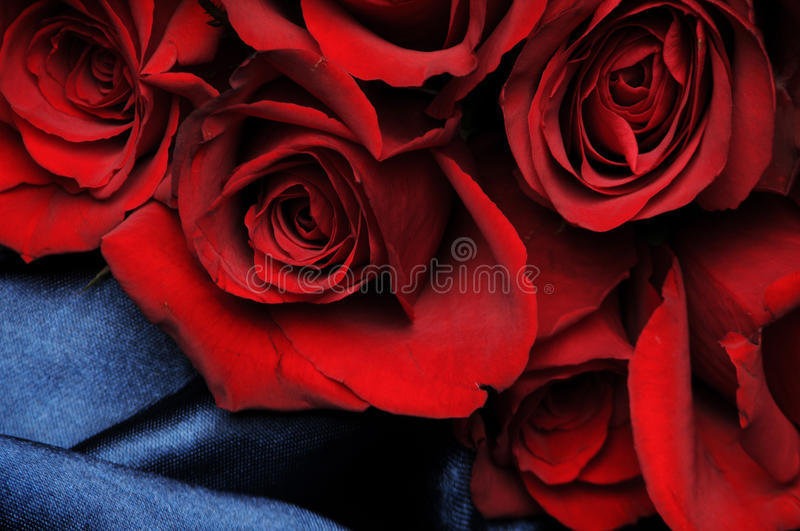RedRose: (195, 72, 546, 387), (489, 0, 796, 214), (3, 4, 160, 236), (680, 249, 800, 494), (248, 0, 470, 128), (510, 344, 654, 512)
